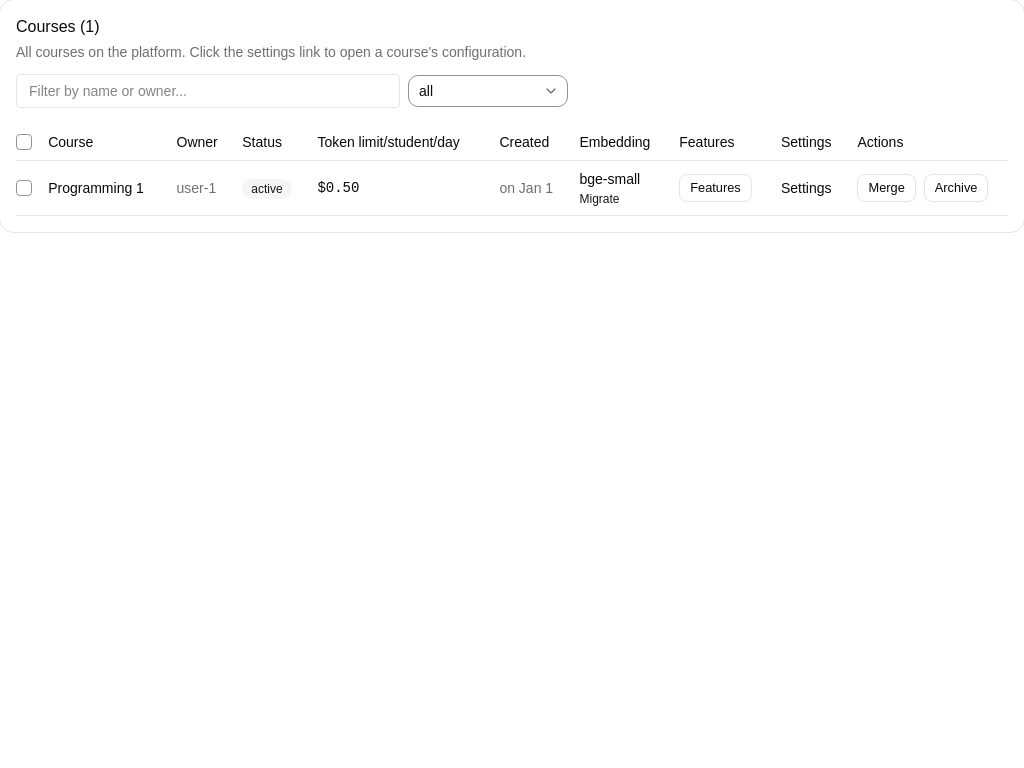
admin bulk course actions › keeps the result summary and focus after a fully-successful archive
Click the checkbox named "Select Programming 1" at point(24, 188), box [16,180,32,196]
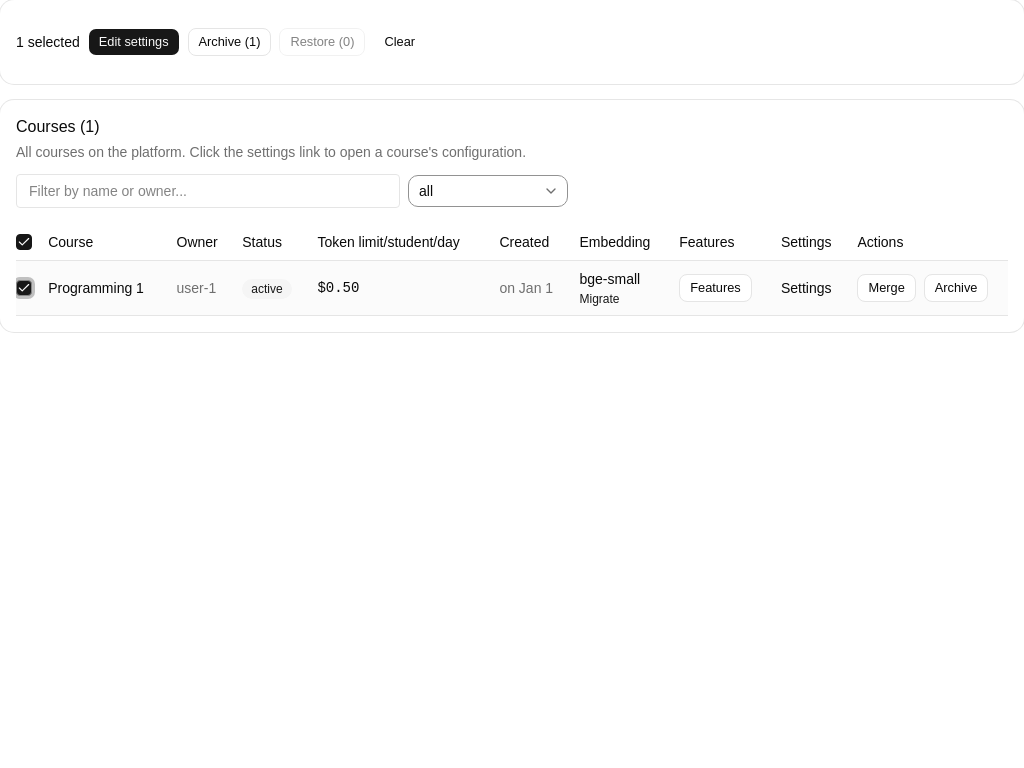
Click the button "Archive (1)" at point(229, 42), box [188,28,271,56]
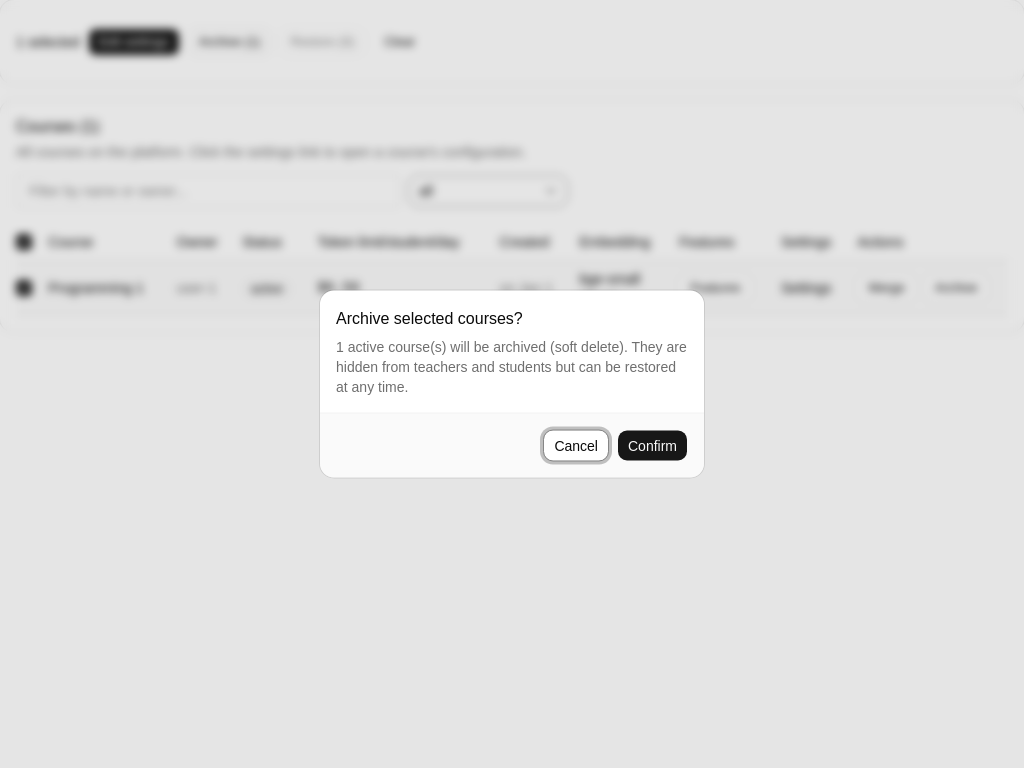
Click the button "Confirm" at point(652, 446), box [617,430,688,462]
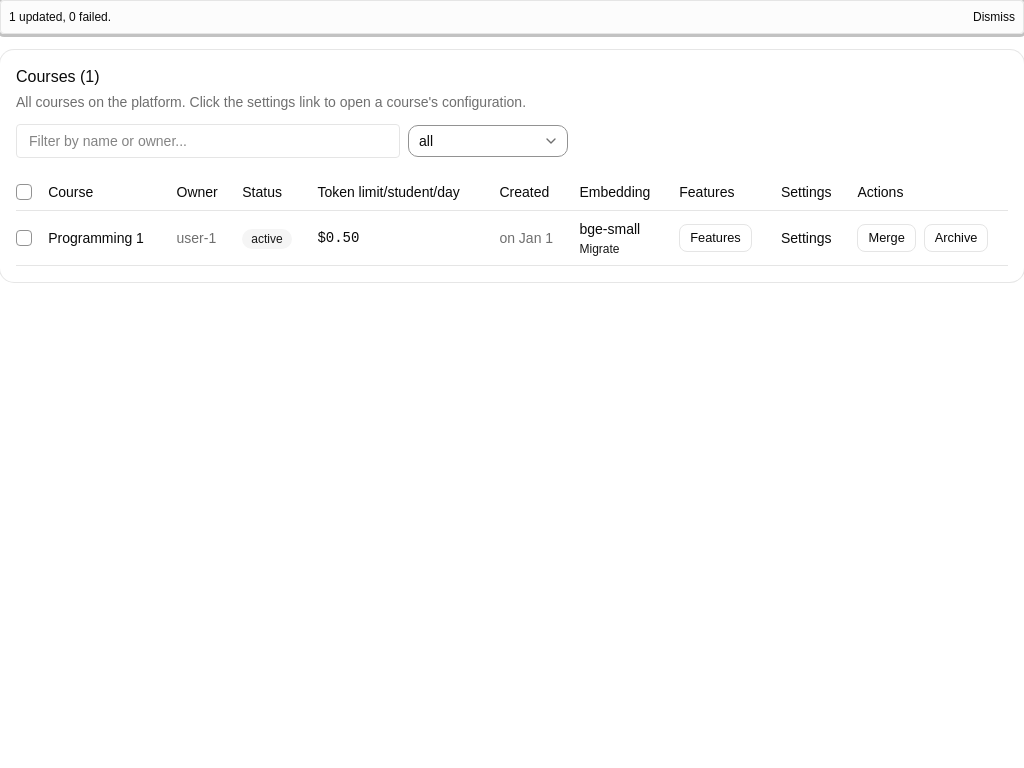
Check: the text "1 updated, 0 failed." is shown, box [9,9,111,25]
Check: the button "Edit settings" is gone
